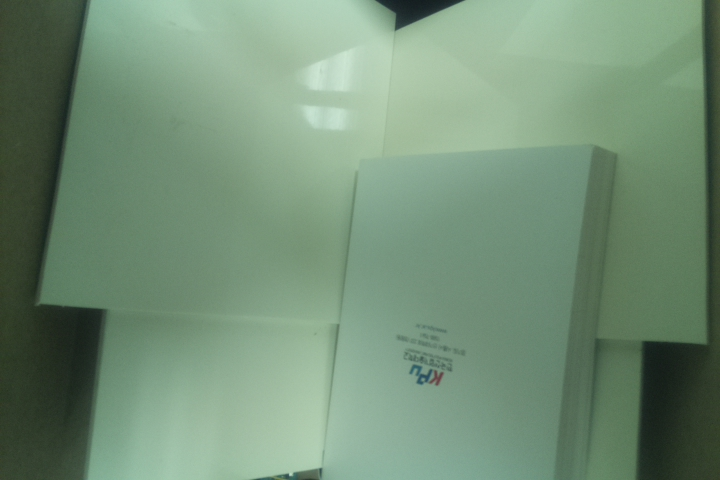book: (318, 144, 621, 480)
